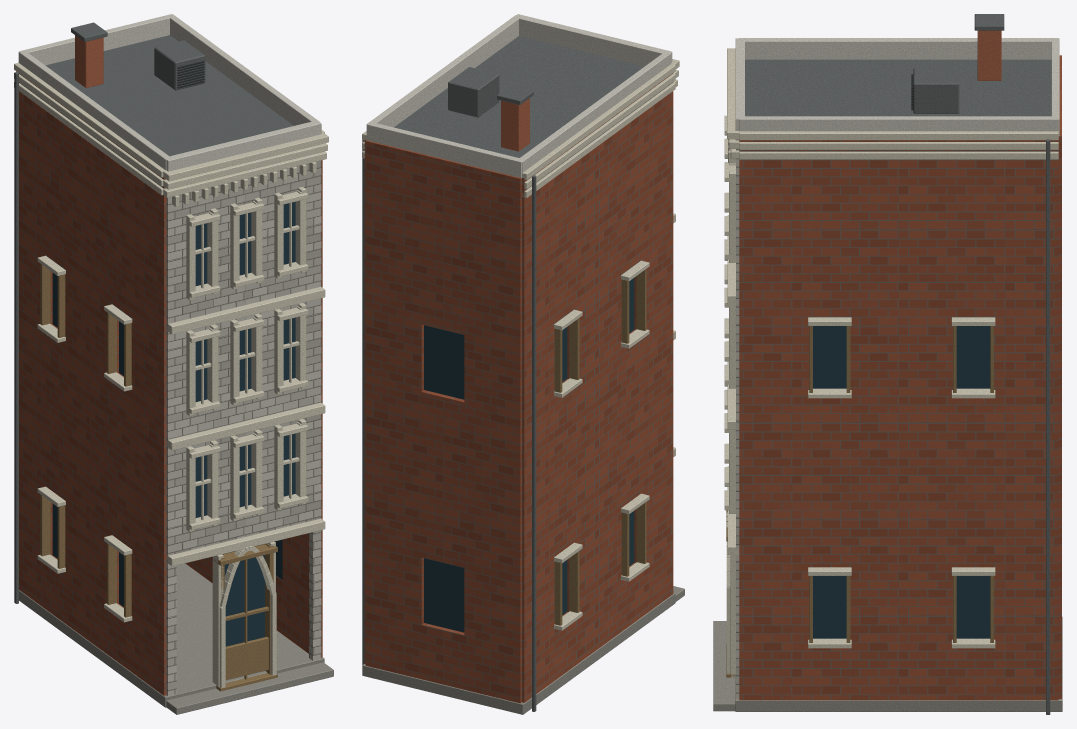
File: OFFC21_lod1.glb
3 views of the same model, side by side, from view 1: azimuth 30°, elevation 25°; view 2: azimuth 150°, elevation 25°; view 3: azimuth 270°, elevation 25° (orthographic). The views are drawn at different scales.
Parts seen in each view (by area): view 1: OFFC21_LOD1; view 2: OFFC21_LOD1; view 3: OFFC21_LOD1.
Boxes of the visible parts, box(x1,y1,x2,y2) form: OFFC21_LOD1: box(14, 14, 333, 714); OFFC21_LOD1: box(362, 14, 684, 714); OFFC21_LOD1: box(713, 14, 1062, 714).
Bounding box in the file's own units: 4.11 × 13.05 × 6.57.
11 materials, 9 textured.
